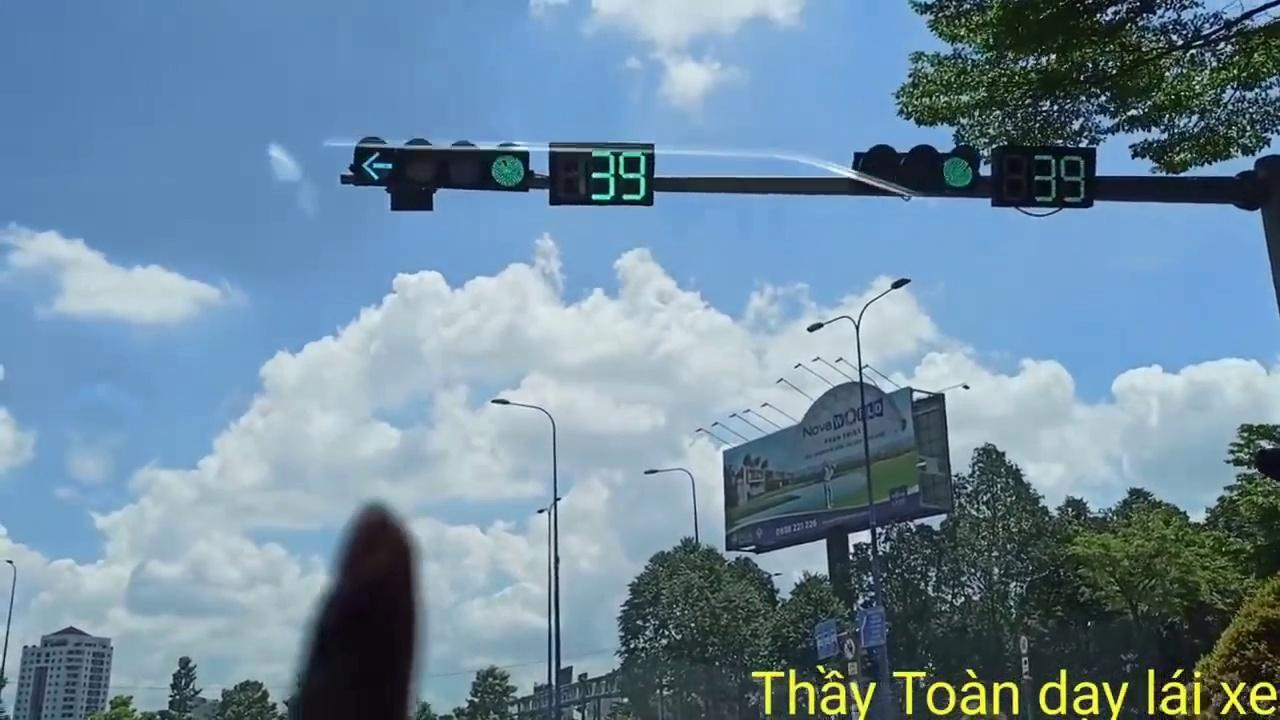Chỉ hướng đường: (853, 607, 888, 647)
Cấm xe máy: (842, 636, 857, 661)
Làn đường cho từng xe: (814, 618, 840, 659)
